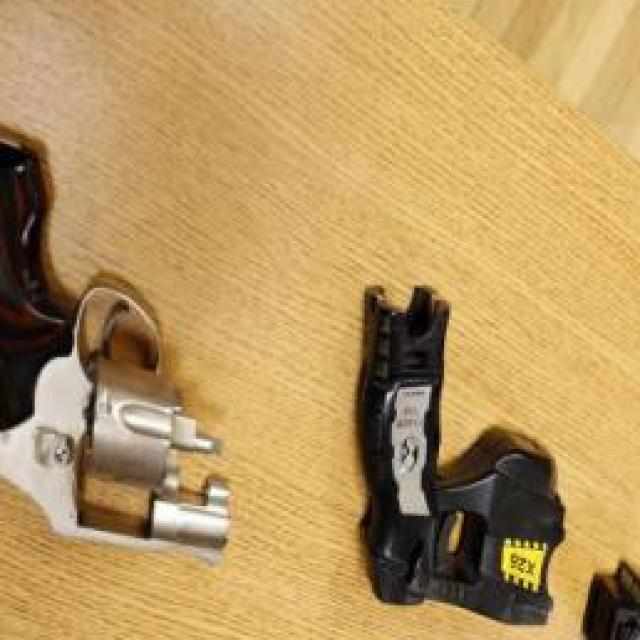pistol: (0, 82, 228, 590)
